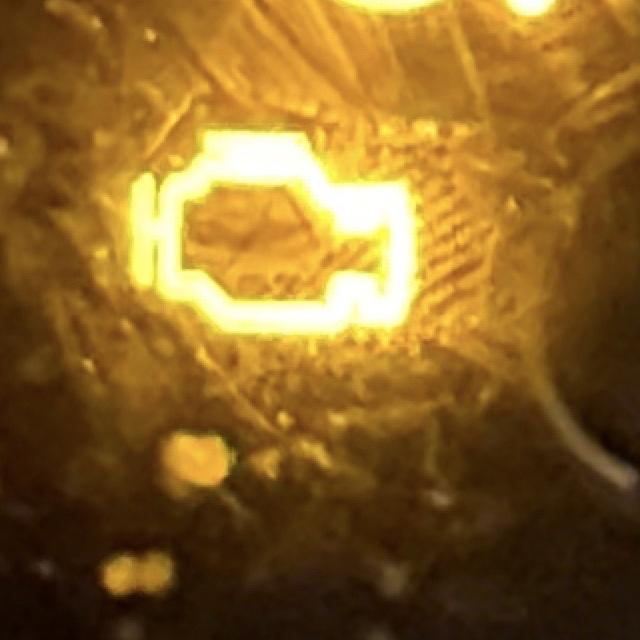Engine Issue: (126, 124, 427, 345)
